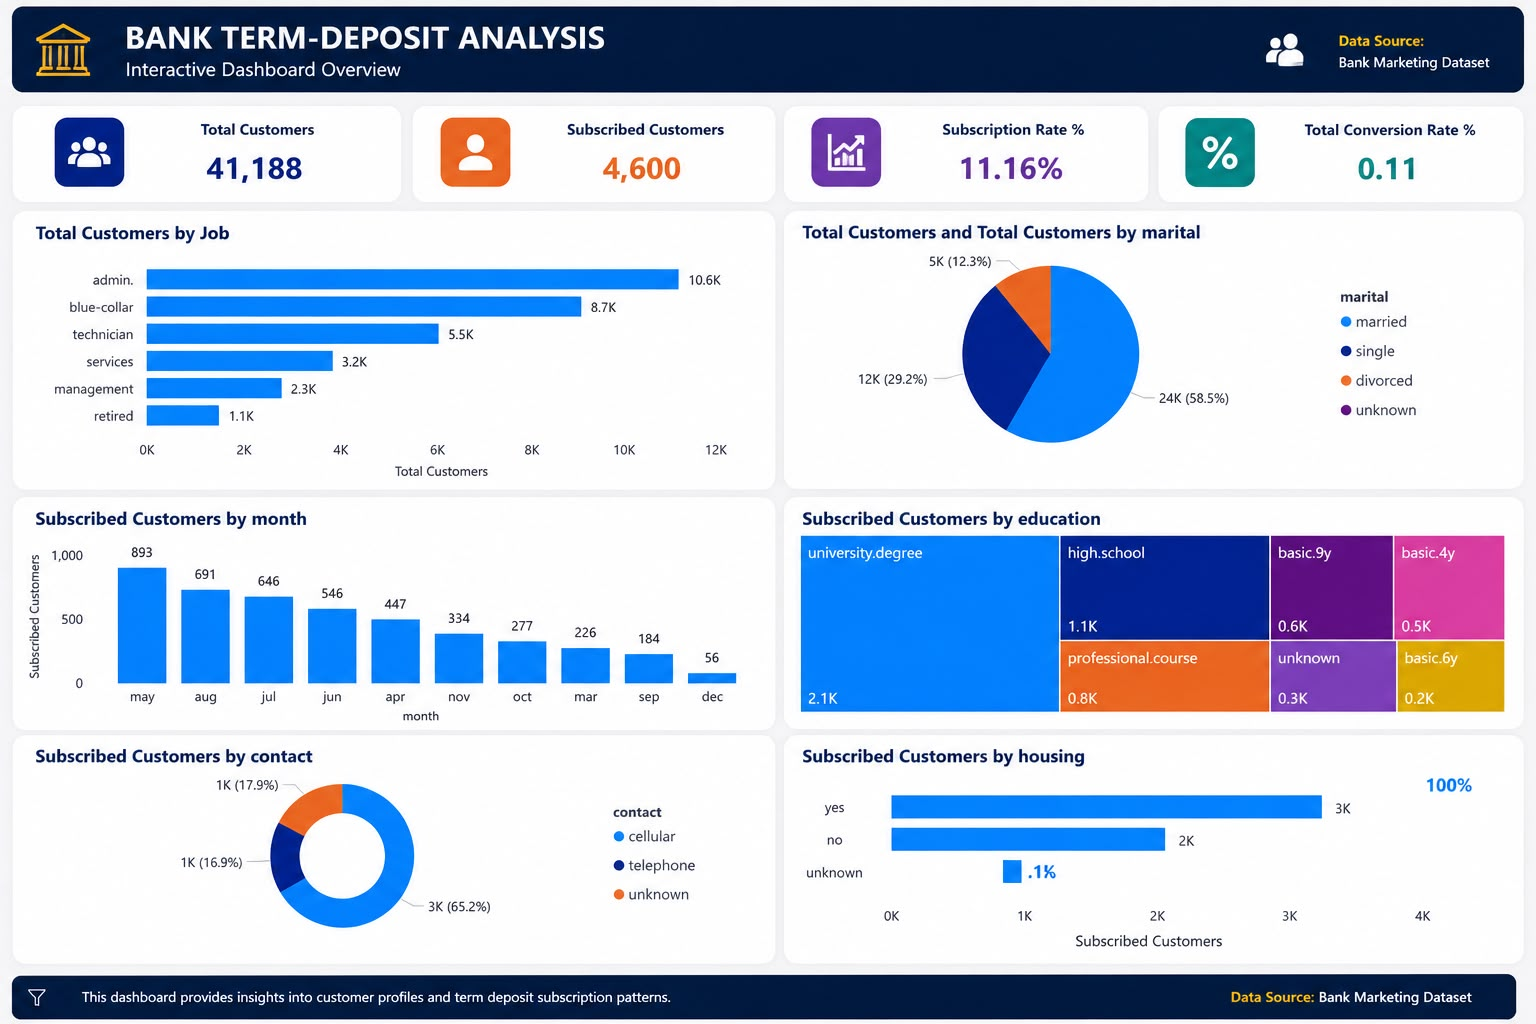

What the dashboard file says about the page in this screenshot:
{"tool":"powerbi","page":{"name":"Page 1","canvas":[1280,720],"ordinal":0},"visuals":[{"type":"tableEx","fields":{"Values":["DimCity.Total Customers"]},"box":[9.8,0,300.8,70.9],"z":0},{"type":"tableEx","fields":{"Values":["DimCity.Subscribed Customers"]},"box":[611.7,0,309.4,70.9],"z":1000},{"type":"pieChart","fields":{"Category":["bank-additional-full.marital","bank-additional-full.job"],"Y":["DimCity.Total Customers","DimCity.Total Customers"]},"box":[785.1,36.7,463.5,206.7],"z":2000},{"type":"tableEx","fields":{"Values":["DimCity.Subscription Rate %"]},"box":[310.9,0,300.8,70.9],"z":3000},{"type":"clusteredBarChart","fields":{"Category":["bank-additional-full.job"],"Y":["DimCity.Total Customers"]},"box":[0,80.7,750.8,214],"z":4000},{"type":"slicer","fields":{"Values":["bank-additional-full.month","bank-additional-full.education"]},"box":[846.2,0,187.1,36.7],"z":5000},{"type":"columnChart","fields":{"Category":["bank-additional-full.month"],"Y":["DimCity.Subscribed Customers"]},"box":[9.8,294.7,733.7,176.1],"z":5001},{"type":"treemap","fields":{"Group":["bank-additional-full.education"],"Values":["DimCity.Subscribed Customers"]},"box":[785.1,270.2,495.2,236],"z":5002},{"type":"donutChart","fields":{"Category":["bank-additional-full.contact"],"Y":["DimCity.Subscribed Customers"]},"box":[9.8,497.7,745.9,187.1],"z":5003},{"type":"funnel","fields":{"Category":["bank-additional-full.housing"],"Y":["DimCity.Subscribed Customers"]},"box":[785,498,495,187],"z":5004}]}

Visuals, with their boxes on the page's 1280x720 design canvas (x1, y1, x2, y2). These are canvas units, not pixel positions in the 1536x1024 screenshot, which may show the page scaled, cropped or inside an application window:
tableEx - DimCity.Total Customers: box(10, 0, 311, 71)
tableEx - DimCity.Subscribed Customers: box(612, 0, 921, 71)
pieChart - bank-additional-full.marital x bank-additional-full.job: box(785, 37, 1249, 243)
tableEx - DimCity.Subscription Rate %: box(311, 0, 612, 71)
clusteredBarChart - bank-additional-full.job x DimCity.Total Customers: box(0, 81, 751, 295)
slicer - bank-additional-full.month x bank-additional-full.education: box(846, 0, 1033, 37)
columnChart - bank-additional-full.month x DimCity.Subscribed Customers: box(10, 295, 744, 471)
treemap - bank-additional-full.education x DimCity.Subscribed Customers: box(785, 270, 1280, 506)
donutChart - bank-additional-full.contact x DimCity.Subscribed Customers: box(10, 498, 756, 685)
funnel - bank-additional-full.housing x DimCity.Subscribed Customers: box(785, 498, 1280, 685)
